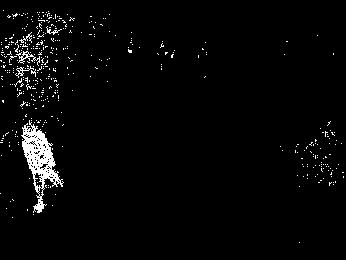person: (22, 120, 64, 213)
